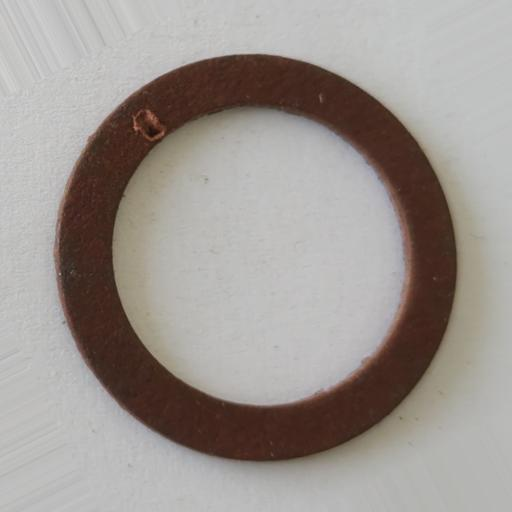defect: (132, 107, 166, 141)
